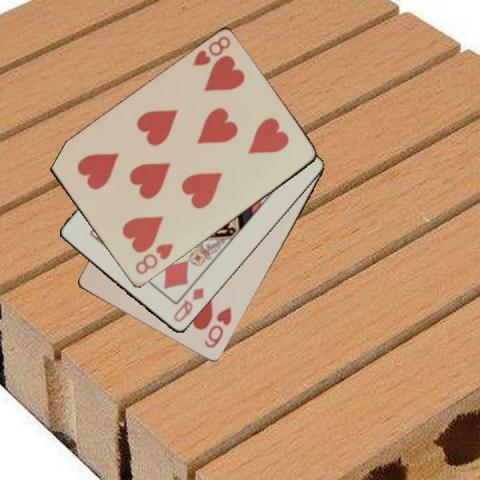6h: (201, 304, 233, 350)
8h: (132, 241, 175, 276), (189, 33, 232, 68)
Qd: (170, 285, 205, 324)
